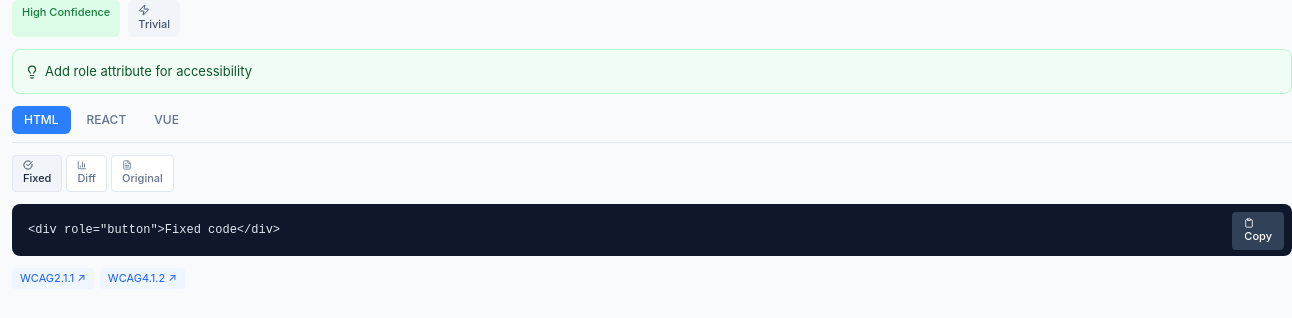
findings/FixCodePreview › renders diff view with red styling for removed lines
Click the button "Diff" at (87,173), box [66, 155, 107, 192]
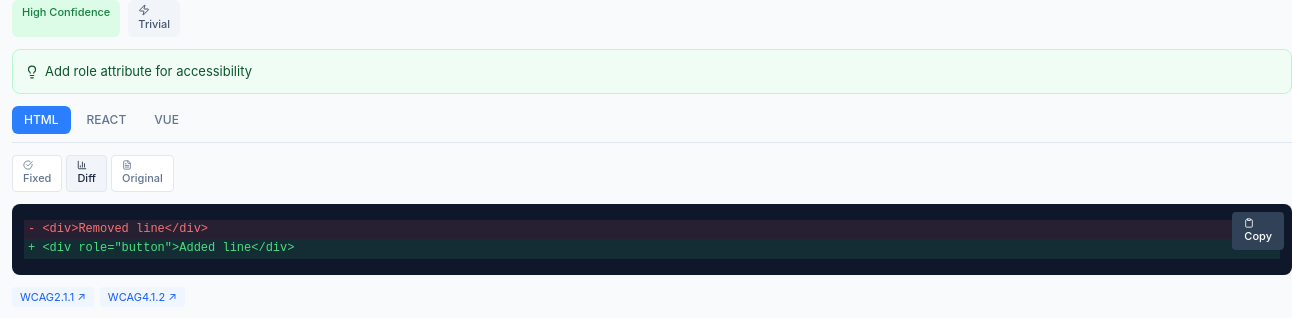
Result: the text "- <div>Removed line</div>" is shown at [24, 220, 1280, 239]
